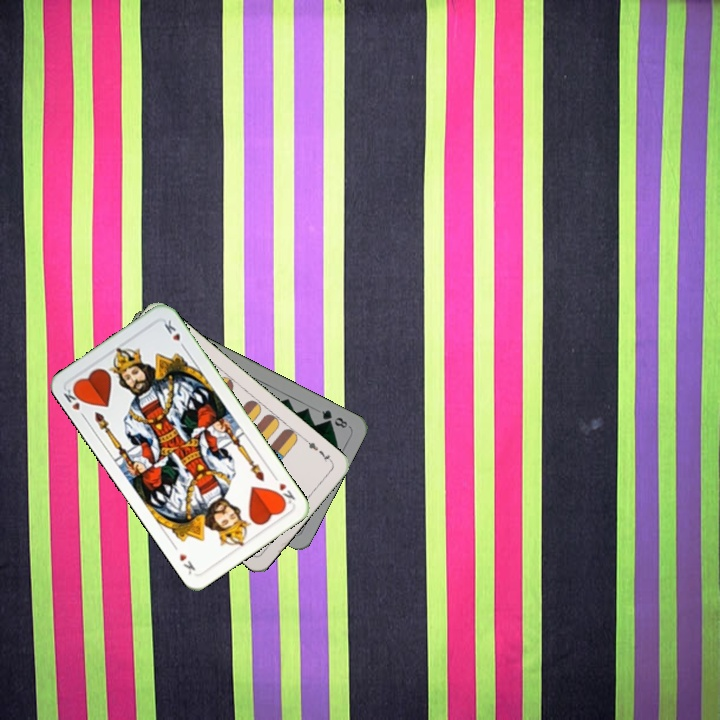E7: (301, 435, 335, 465)
G8: (318, 406, 350, 431)
HK: (59, 383, 88, 422), (269, 470, 298, 508)
